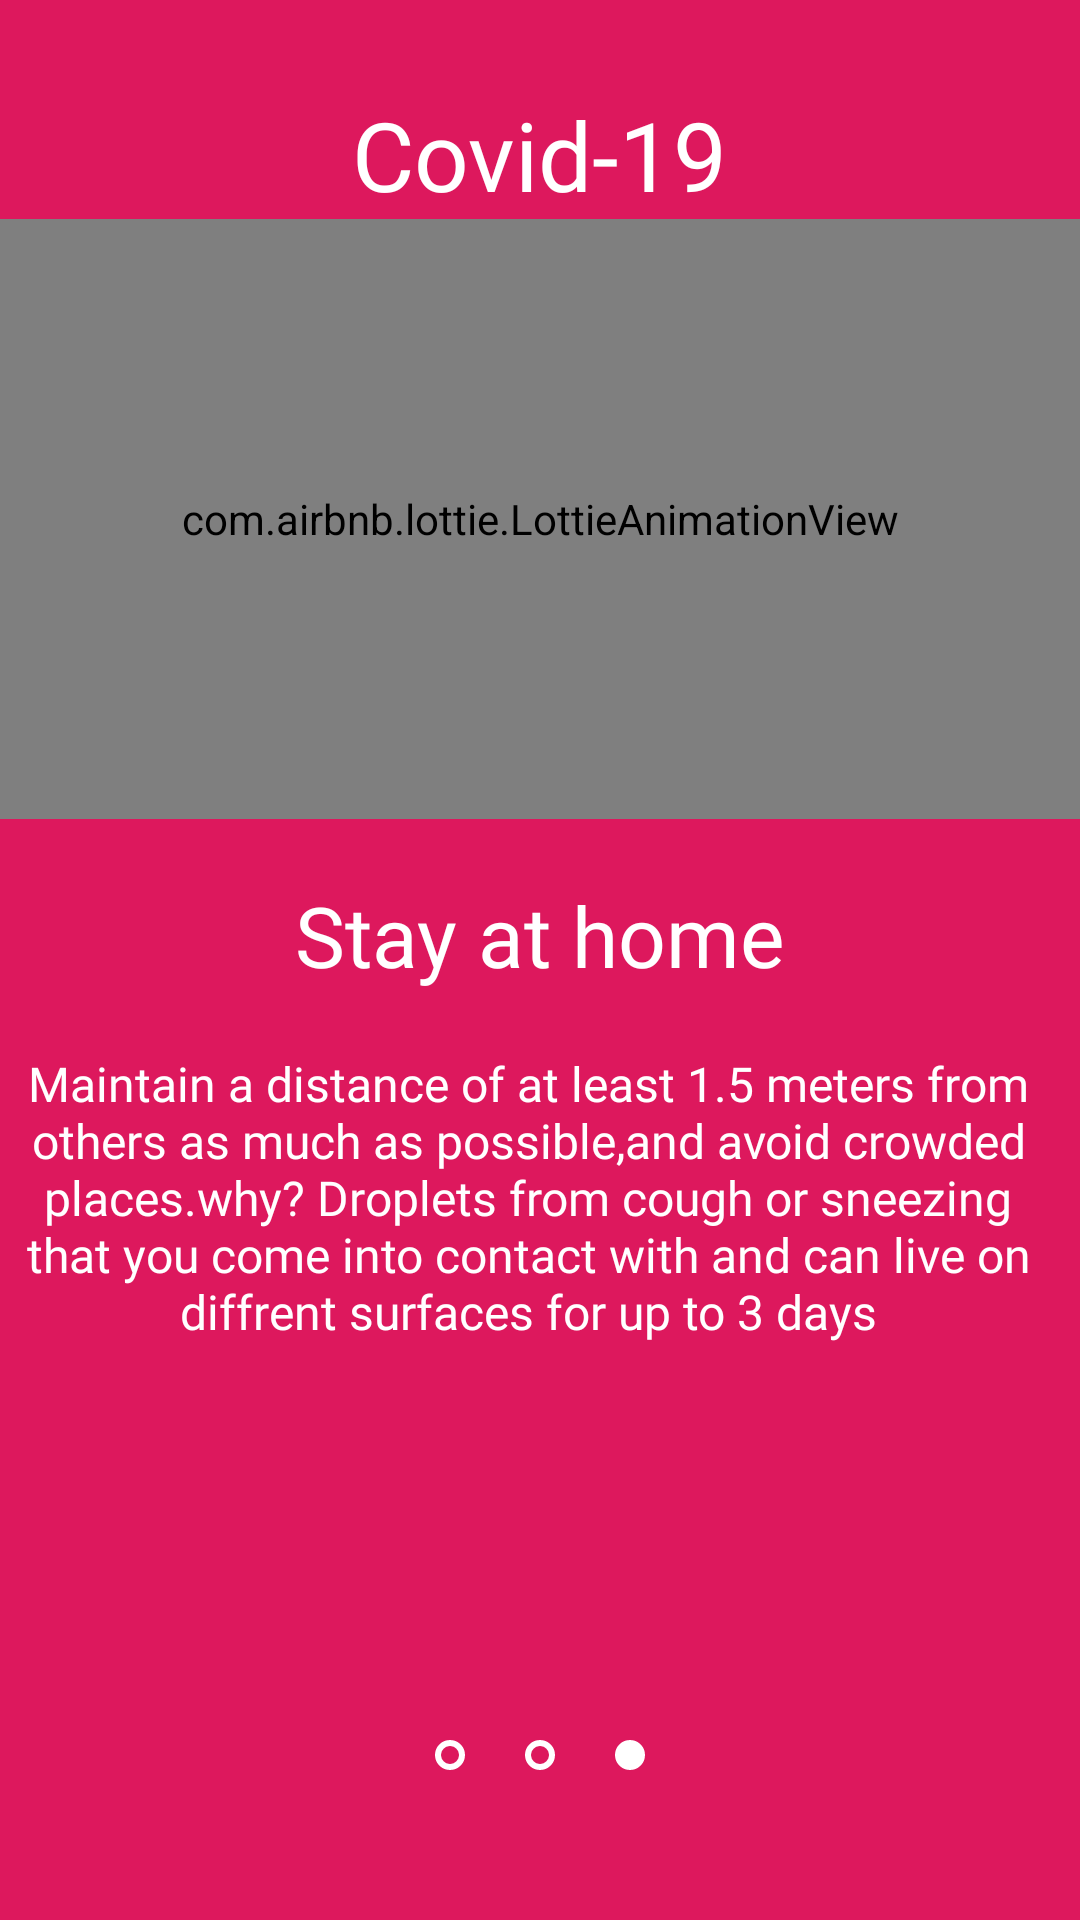

Named icons in this screenshot (1080 x 1920) and their centers, (x=x, y=y):
circle: (x=630, y=1755)
circle empty: (x=450, y=1755), (x=540, y=1755)
